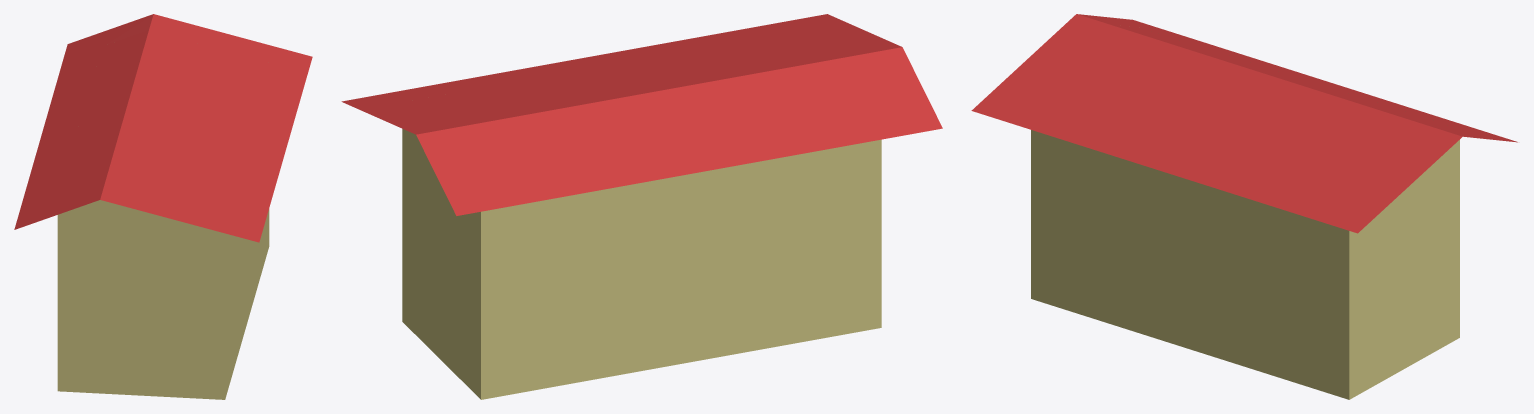
The picture shows the model from 3 angles, left to right: view 1: azimuth 30°, elevation 25°; view 2: azimuth 150°, elevation 25°; view 3: azimuth 270°, elevation 25°; orthographic projection. The views are drawn at different scales.
Size of the model in its own units: 11.84 by 12.83 by 5.93.
